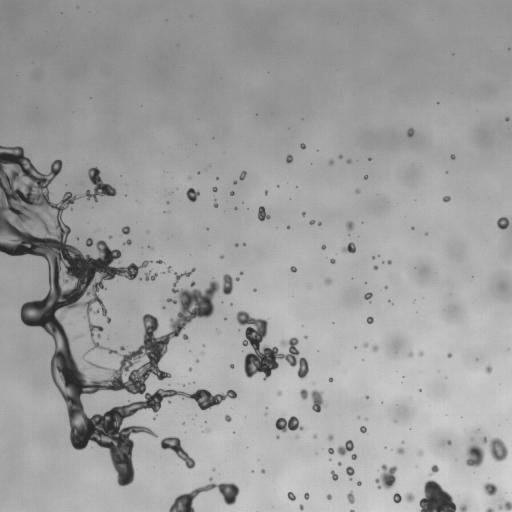droplet: (236, 311, 308, 379), (418, 480, 457, 511), (483, 437, 508, 461), (375, 464, 397, 489), (300, 389, 323, 412), (466, 445, 484, 467), (336, 440, 353, 455), (483, 482, 497, 496), (186, 187, 199, 201), (258, 206, 270, 220), (497, 217, 509, 229), (342, 242, 355, 253), (498, 501, 511, 511), (144, 271, 157, 280), (404, 492, 415, 502), (429, 464, 438, 475), (393, 493, 402, 503), (346, 466, 354, 477), (331, 470, 338, 481), (347, 492, 354, 503), (121, 226, 130, 234), (287, 491, 295, 500), (346, 221, 353, 231), (85, 238, 93, 246), (364, 292, 372, 300), (407, 128, 414, 137), (239, 171, 246, 180), (485, 365, 492, 373), (286, 154, 292, 163), (366, 316, 373, 323), (397, 447, 404, 454), (459, 504, 466, 511), (442, 196, 450, 202), (372, 344, 378, 352), (225, 414, 231, 421), (360, 426, 366, 433), (123, 239, 131, 244), (290, 266, 296, 272), (325, 278, 331, 284), (182, 334, 188, 340), (328, 448, 334, 454), (304, 492, 309, 499), (300, 143, 305, 149), (328, 434, 333, 440), (351, 454, 356, 460), (326, 494, 332, 499), (212, 187, 217, 192), (363, 342, 368, 347), (418, 351, 423, 356), (309, 220, 315, 224), (299, 504, 303, 510), (451, 154, 455, 159), (346, 159, 351, 163), (329, 160, 333, 165), (355, 189, 360, 193), (213, 203, 218, 207), (330, 259, 335, 263), (373, 265, 378, 269), (167, 266, 171, 271), (418, 451, 423, 455), (157, 260, 163, 263), (505, 117, 509, 121), (230, 191, 234, 195), (387, 260, 391, 264), (447, 353, 451, 357), (230, 364, 234, 368), (328, 377, 332, 381), (277, 391, 281, 395), (447, 440, 451, 444), (261, 469, 265, 473), (357, 481, 361, 485), (302, 212, 305, 216), (317, 222, 321, 225), (322, 245, 325, 249), (409, 352, 412, 356), (349, 509, 354, 511), (339, 155, 342, 158), (233, 180, 236, 183), (287, 226, 290, 229), (220, 255, 223, 258), (313, 435, 316, 438), (338, 462, 341, 465), (364, 176, 367, 178), (234, 207, 237, 209), (109, 235, 111, 238), (235, 243, 237, 246), (240, 272, 243, 274), (384, 286, 387, 288), (217, 330, 219, 333), (304, 335, 306, 338), (196, 359, 198, 362), (366, 396, 369, 398), (205, 429, 208, 431), (276, 436, 279, 438), (368, 158, 370, 160), (265, 191, 267, 193), (166, 211, 168, 213), (243, 243, 245, 245), (254, 289, 256, 291), (162, 306, 164, 308), (189, 368, 191, 370)
ligament: (0, 146, 239, 486), (169, 478, 239, 511), (161, 436, 195, 469), (275, 416, 303, 432), (73, 333, 83, 339), (485, 507, 494, 511), (82, 352, 87, 358)
